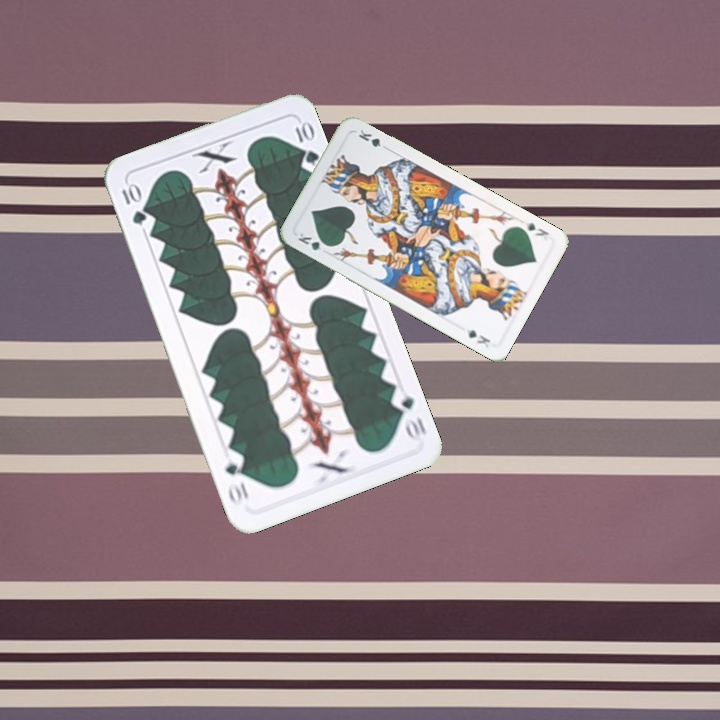G10: (387, 385, 430, 442), (117, 179, 149, 228)
GK: (293, 229, 333, 253), (520, 218, 551, 239)
